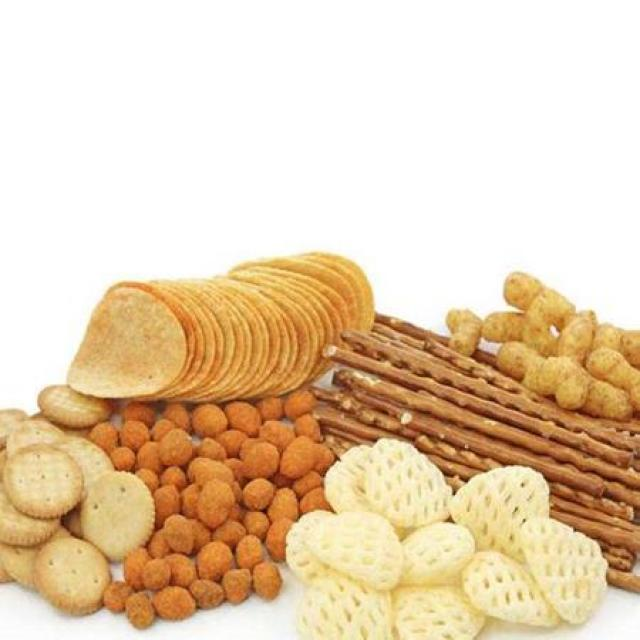Chips packaged: (300, 439, 607, 639), (47, 236, 364, 390), (436, 267, 640, 413)
